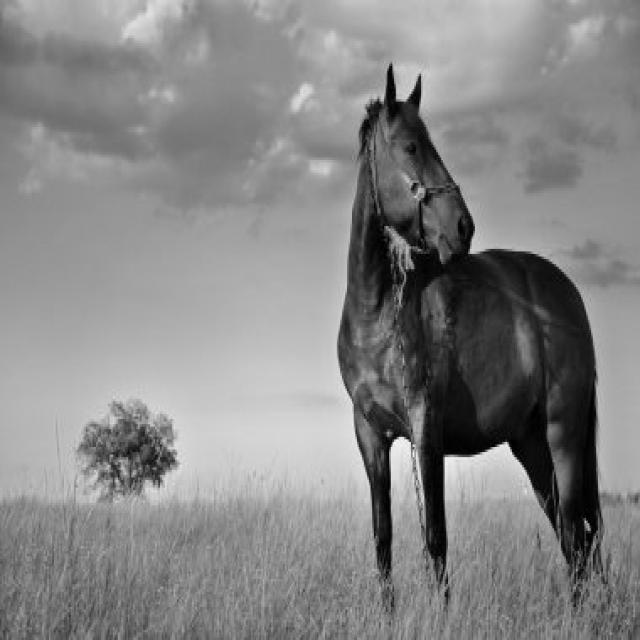Animal: (335, 66, 607, 605)
